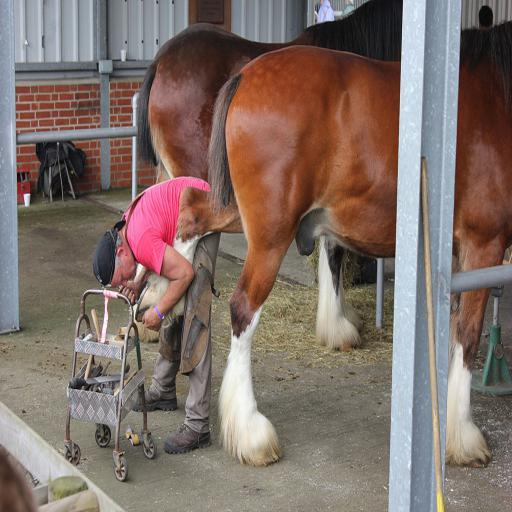Horse: (208, 22, 511, 468), (134, 0, 402, 341)
